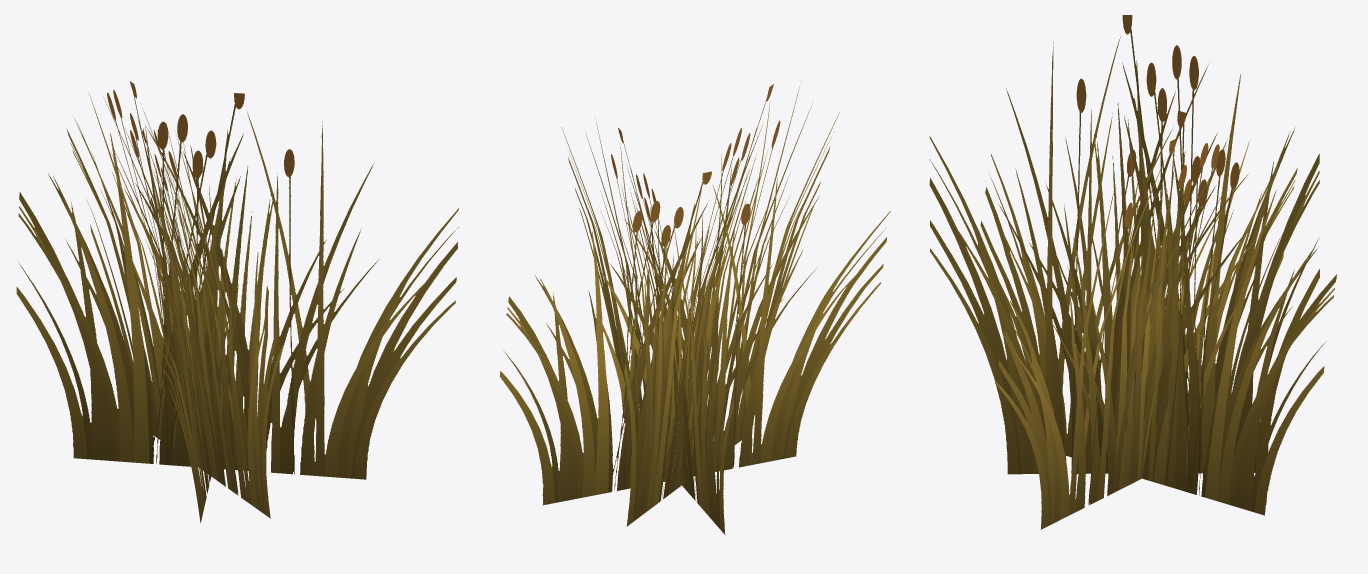
The model's file is savanna_grass_2_burnt2.glb.
3 renders of one model, left to right at view 1: azimuth 30°, elevation 25°; view 2: azimuth 150°, elevation 25°; view 3: azimuth 270°, elevation 25°, orthographic. The views are drawn at different scales.
Visible parts, largest first — view 1: savanna_grass_2_burnt2; view 2: savanna_grass_2_burnt2; view 3: savanna_grass_2_burnt2.
Boxes of the visible parts, x1,y1,x2,y2 form: savanna_grass_2_burnt2: (16,81,458,522); savanna_grass_2_burnt2: (500,81,890,534); savanna_grass_2_burnt2: (929,15,1336,529).
Size of the model in its own units: 0.7861 by 0.8863 by 0.8105.
1 material, 1 textured.
